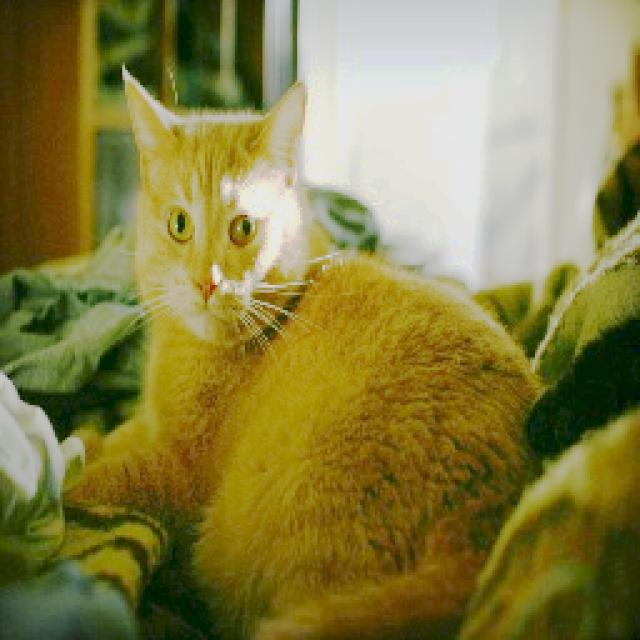cat: (78, 64, 570, 630)
